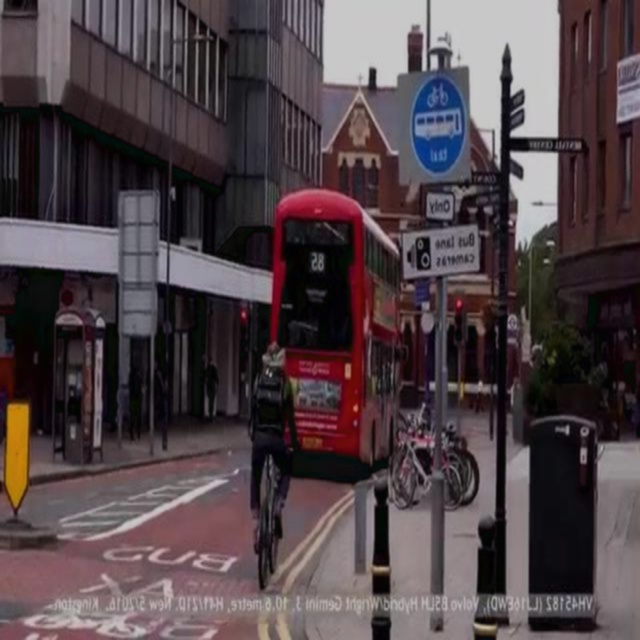bicycle: (210, 417, 322, 595)
bus: (211, 177, 438, 479)
